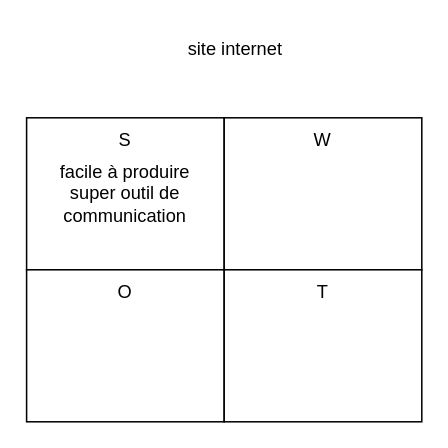
This 448x448 diagram has some shape labels left out. The box of each missing label's shape, as (x1, y1, x2, y2) in pixels:
gagner en crédibilité attirer plus de clients: (25, 268, 224, 422)
pirater adapter à tous les écrans: (223, 116, 422, 270)
